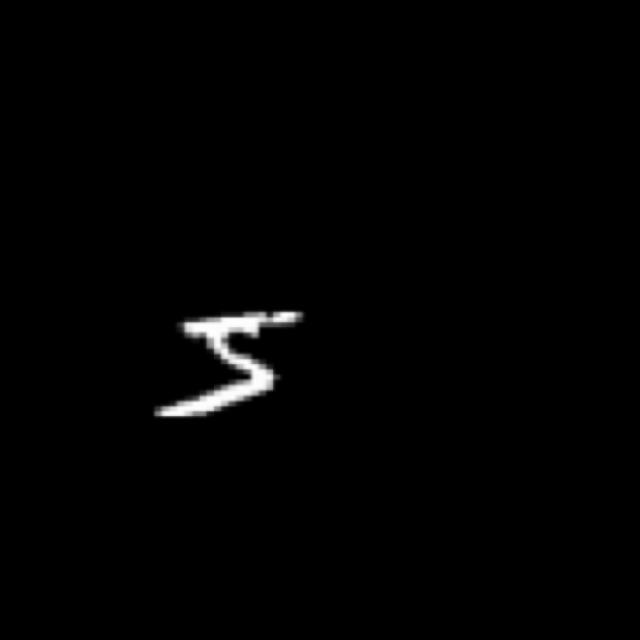five -5-: (142, 301, 317, 426)
